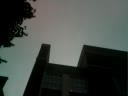window: (114, 65, 123, 85), (103, 71, 111, 88)
